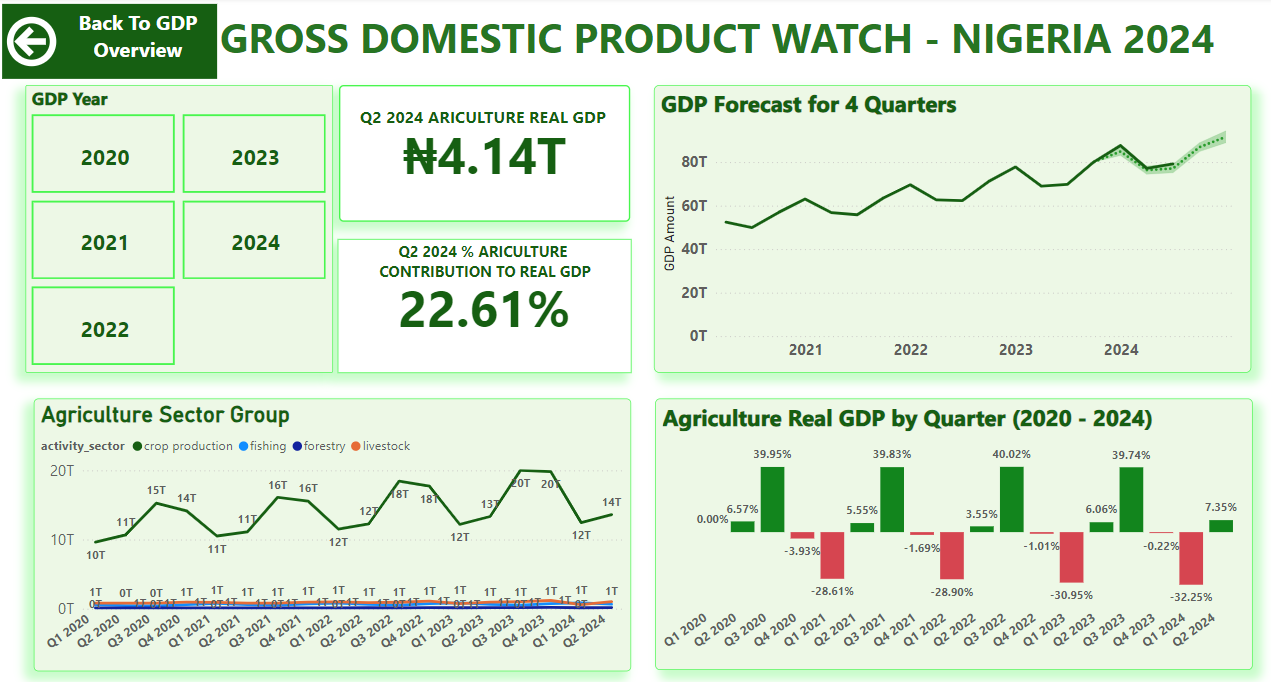

The dashboard page shown, as its layout file describes it:
{"tool":"powerbi","page":{"name":"Agric Drill Down","canvas":[1366,738],"ordinal":1},"visuals":[{"type":"actionButton","box":[4.3,7.2,62.3,80.2],"z":0,"group":"g1"},{"type":"lineChart","title":"GDP Forecast for 4 Quarters","fields":{"Y":["Sum(gdp.amount)"],"Category":["date table.Date"]},"box":[701.5,93.6,638.5,307.5],"z":0},{"type":"textbox","box":[66.6,7.2,166.7,66.6],"z":1000,"group":"g1"},{"type":"textbox","title":"Text box","box":[232.7,8.5,1101.8,79],"z":1000},{"type":"clusteredColumnChart","title":"Agriculture Real GDP by Quarter (2020 - 2024)","fields":{"Category":["date table.Quarter Year"],"Y":["Measures_.Agric RGDP QoQ % V"]},"box":[702.3,429.4,638.6,290.1],"z":2000},{"type":"group","id":"g1","title":"Group 1","box":[4.3,7.2,229,80.2],"z":3000},{"type":"lineChart","title":"Agriculture Sector Group","fields":{"Category":["date table.Quarter Year"],"Series":["Agric Sector Group.activity_sector"],"Y":["Measures_.Agric GDP"]},"box":[38.2,429.4,638.6,291.9],"z":4000},{"type":"group","id":"g2","title":"Group 4","box":[363.8,94.1,311.3,146.5],"z":5000},{"type":"card","fields":{"Values":["Measures_.Agric CQ Real GDP"]},"box":[363.8,94.1,311.3,146.5],"z":6000,"group":"g2"},{"type":"group","id":"g3","title":"Group 3","box":[363.3,244.2,314.7,158],"z":6000},{"type":"card","fields":{"Values":["Measures_.% Agric CQ Contribution"]},"box":[363.4,259.2,313.9,143.1],"z":6000,"group":"g3"},{"type":"card","fields":{"Values":["Measures_.Agric CQ Text"]},"box":[371,108.1,293,43.3],"z":6500,"group":"g2"},{"type":"advancedSlicerVisual","title":"GDP Year","fields":{"Values":["date table.Year"]},"box":[28.8,93.6,328.8,307.5],"z":7000},{"type":"card","fields":{"Values":["Measures_.Agric CQ % Contribution Text"]},"box":[363.3,244.2,314.7,74.9],"z":9000,"group":"g3"}]}

Visuals, with their boxes in screenshot pixels (x1, y1, x2, y2), scaled from the page's 1366x738 canvas onto the 1271x682 screenshot:
actionButton: x1=4, y1=7, x2=62, y2=81
"GDP Forecast for 4 Quarters" lineChart: x1=653, y1=86, x2=1247, y2=371
textbox: x1=62, y1=7, x2=217, y2=68
"Text box" textbox: x1=217, y1=8, x2=1242, y2=81
"Agriculture Real GDP by Quarter (2020 - 2024)" clusteredColumnChart: x1=653, y1=397, x2=1248, y2=665
"Group 1" group: x1=4, y1=7, x2=217, y2=81
"Agriculture Sector Group" lineChart: x1=36, y1=397, x2=630, y2=667
"Group 4" group: x1=338, y1=87, x2=628, y2=222
card - Measures_.Agric CQ Real GDP: x1=338, y1=87, x2=628, y2=222
"Group 3" group: x1=338, y1=226, x2=631, y2=372
card - Measures_.% Agric CQ Contribution: x1=338, y1=240, x2=630, y2=372
card - Measures_.Agric CQ Text: x1=345, y1=100, x2=618, y2=140
"GDP Year" advancedSlicerVisual: x1=27, y1=86, x2=333, y2=371
card - Measures_.Agric CQ % Contribution Text: x1=338, y1=226, x2=631, y2=295
